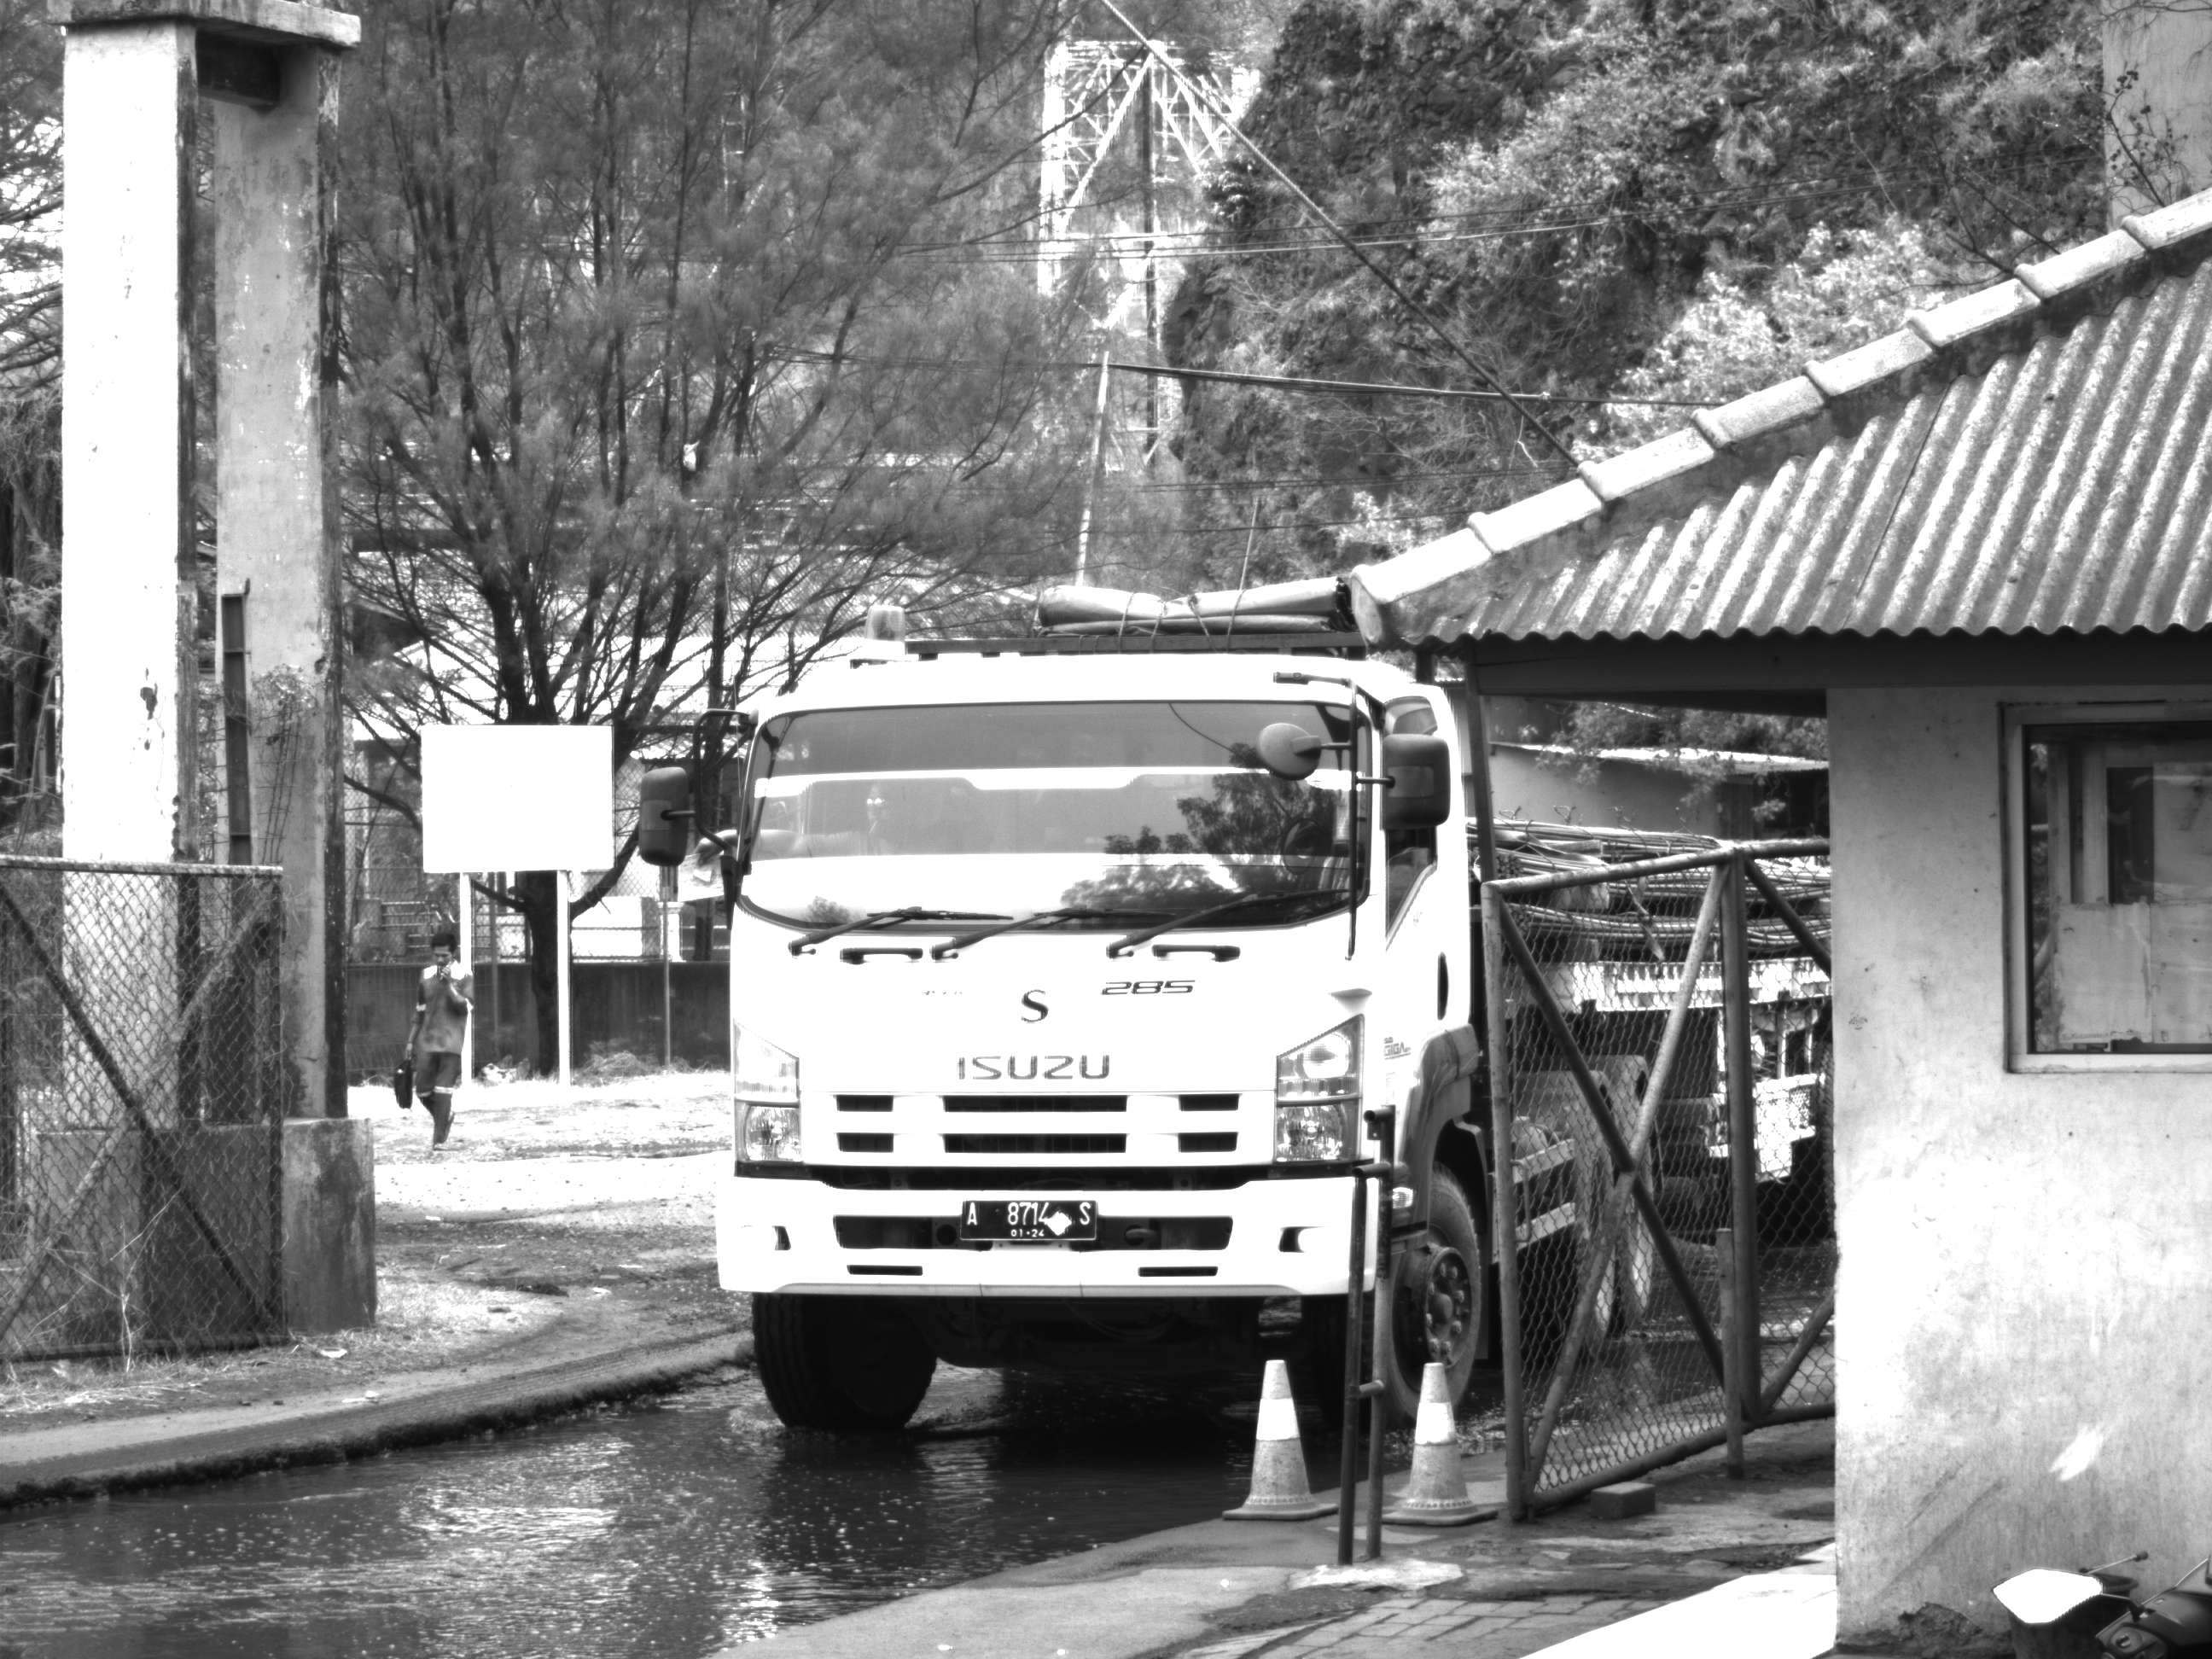day_truck_front: (706, 658, 1495, 1433)
plate: (952, 1196, 1101, 1246)
